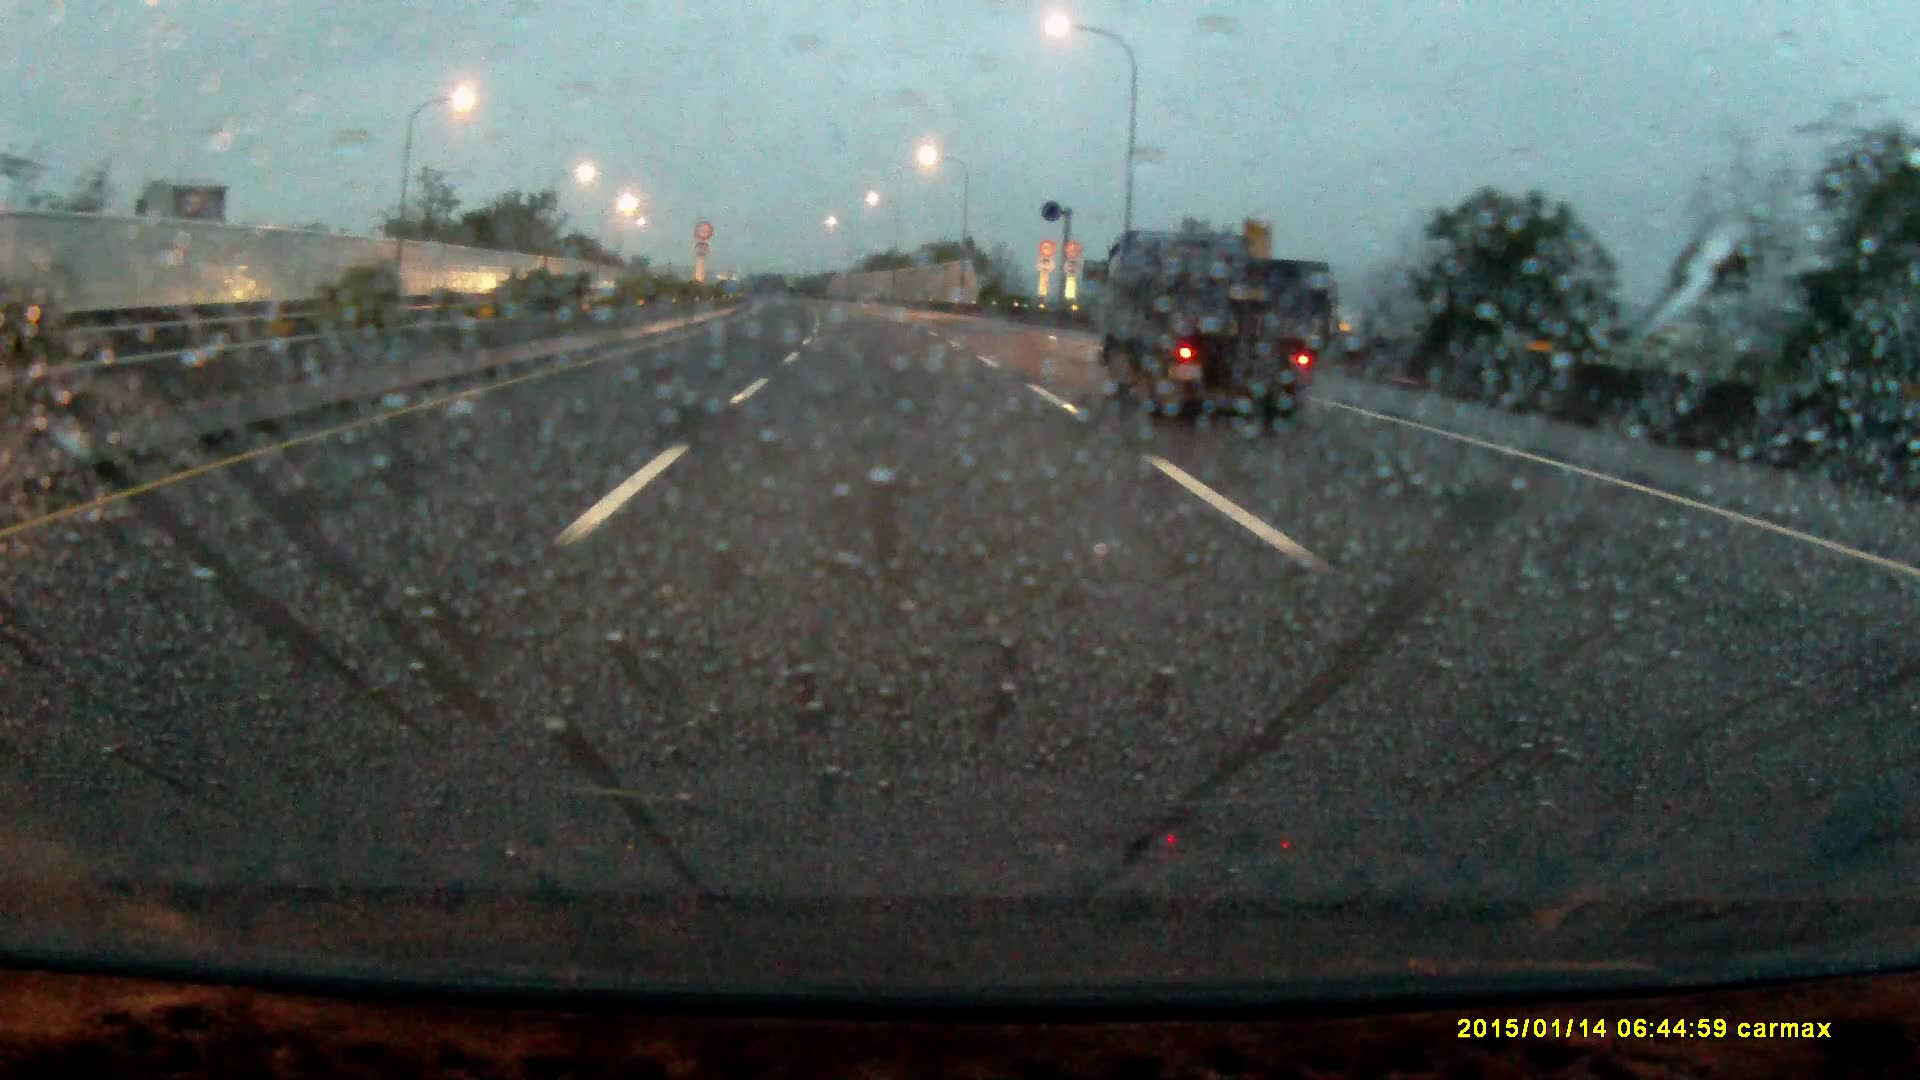vehicle: (1098, 240, 1327, 423)
